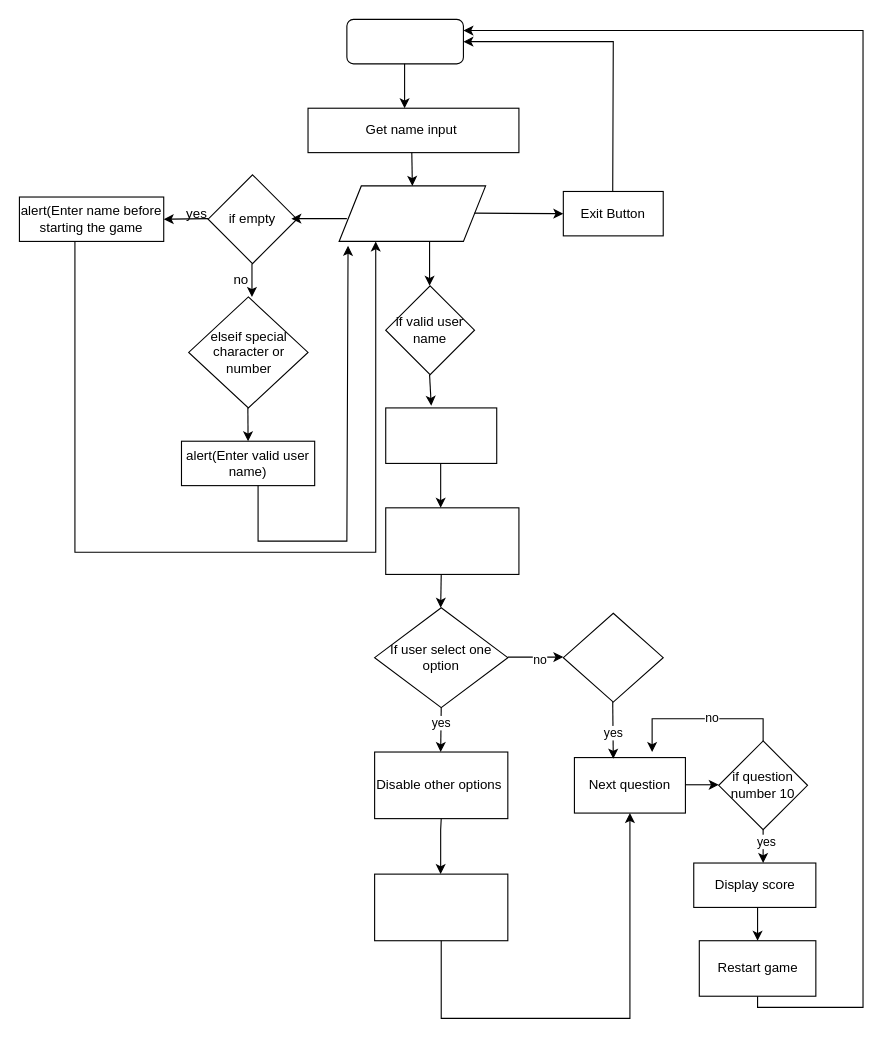
This 891x1047 diagram has some shape labels left out. Each missing label, with the centre of its shape:
"Click next button" goes at [441,907].
"First question and answer options" goes at [452,540].
"Game Section" goes at [441,435].
"if timer expires" goes at [612,657].
"Start quiz" goes at [404,41].
"User Name" goes at [412,213].
